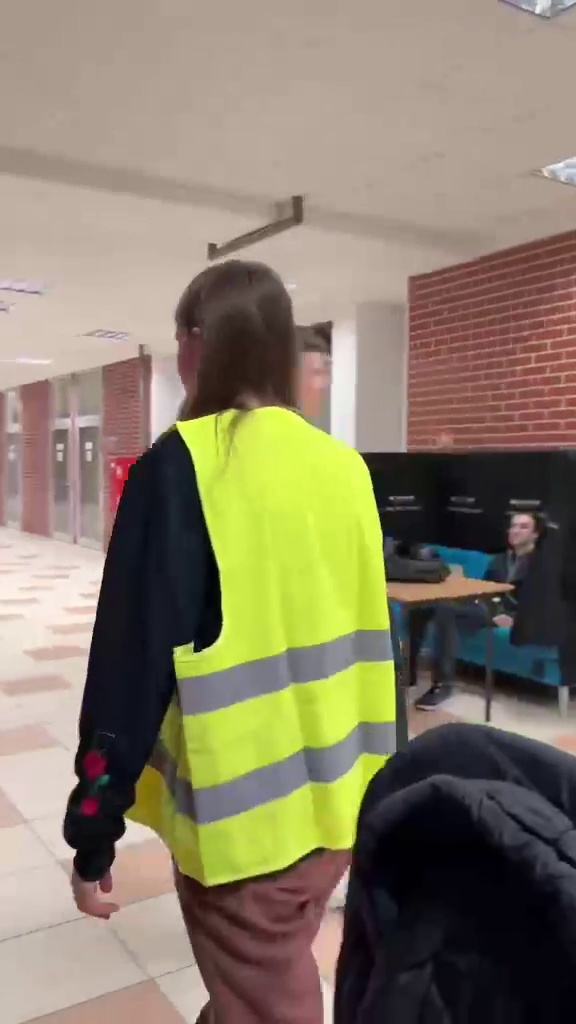no vest: (410, 489, 565, 703)
vest: (69, 252, 385, 1024)
